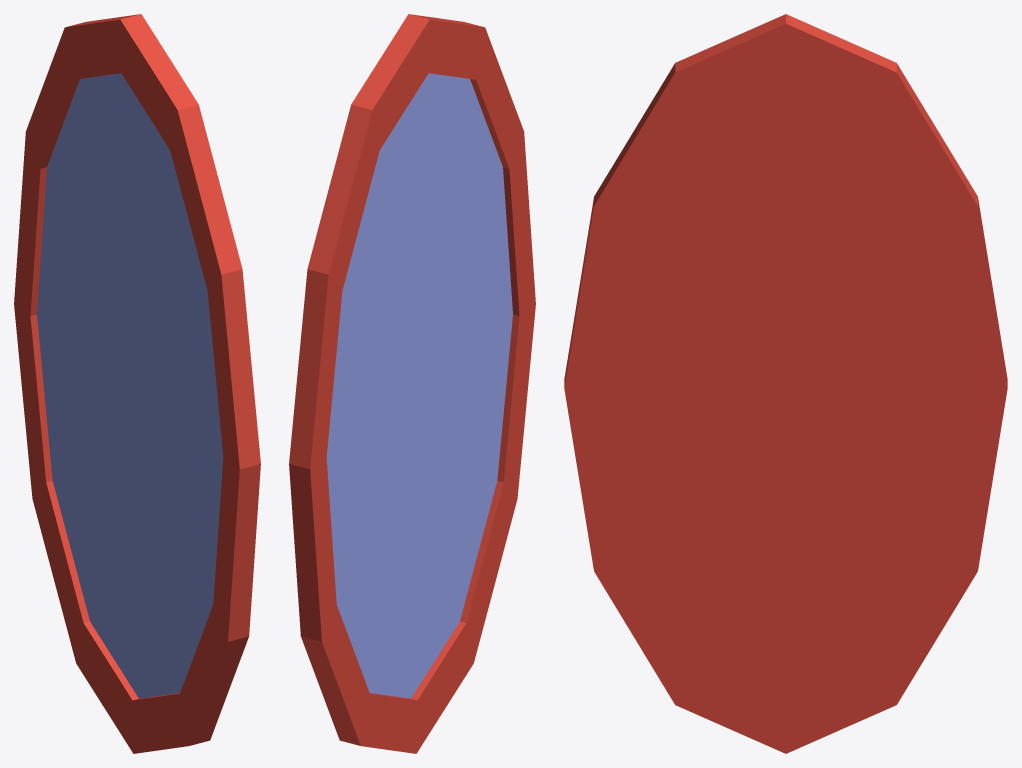
File: mirror.fbx
3 views of the same model, side by side, from view 1: azimuth 30°, elevation 25°; view 2: azimuth 150°, elevation 25°; view 3: azimuth 270°, elevation 25° (orthographic).
Parts seen in each view (by area): view 1: Cylinder.090; view 2: Cylinder.090; view 3: Cylinder.090.
Boxes of the visible parts, x1,y1,x2,y2 form: Cylinder.090: (14,14,260,753); Cylinder.090: (289,14,535,753); Cylinder.090: (564,14,1007,753).
Size of the model in its own units: 30.22 by 620 by 344.
